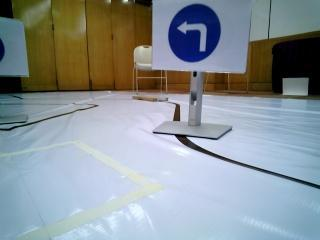left: (153, 0, 248, 66)
